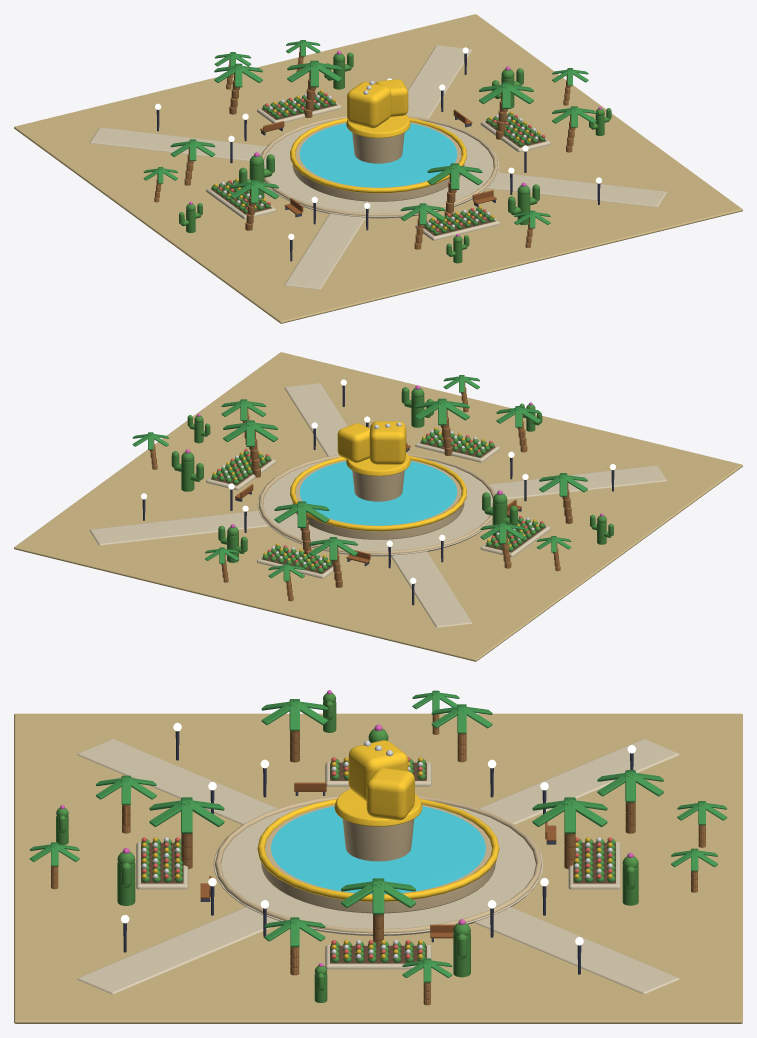
The model's file is centre.glb.
3 views of the same model, one above another, from view 1: azimuth 30°, elevation 25°; view 2: azimuth 150°, elevation 25°; view 3: azimuth 270°, elevation 25° (orthographic). The views are drawn at different scales.
Visible parts, largest first — view 1: Cube; view 2: Cube; view 3: Cube.
Part boxes in pixels (x1=…): Cube: x1=14, y1=14, x2=742, y2=323; Cube: x1=14, y1=352, x2=742, y2=661; Cube: x1=14, y1=690, x2=742, y2=1023.
Size of the model in its own units: 5.9 by 1.06 by 5.9.
